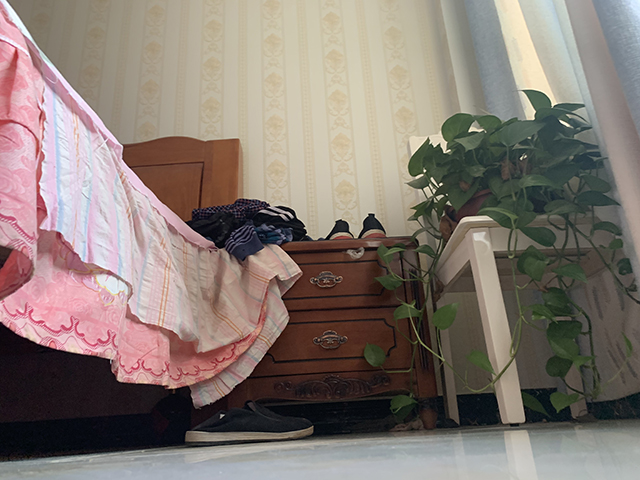bed: (1, 1, 245, 427)
cabinet: (223, 235, 440, 430)
curtain: (462, 1, 640, 406)
stool: (407, 126, 640, 430)
